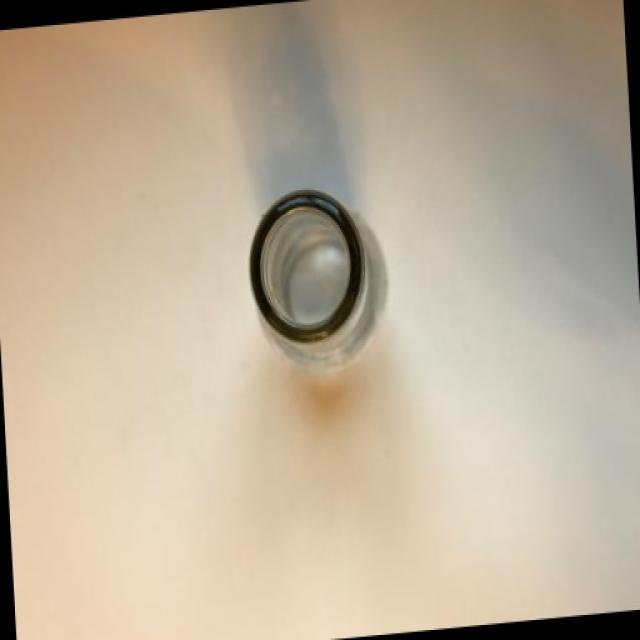vidrio: (209, 131, 517, 423)
